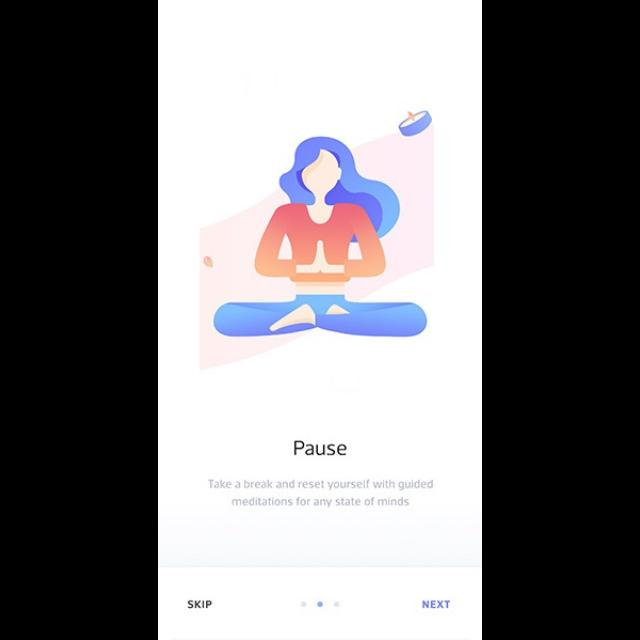image: (200, 110, 434, 370)
pageindicator: (301, 600, 341, 608)
text: (208, 479, 434, 508), (294, 440, 348, 456), (423, 600, 451, 608), (188, 600, 214, 608)
